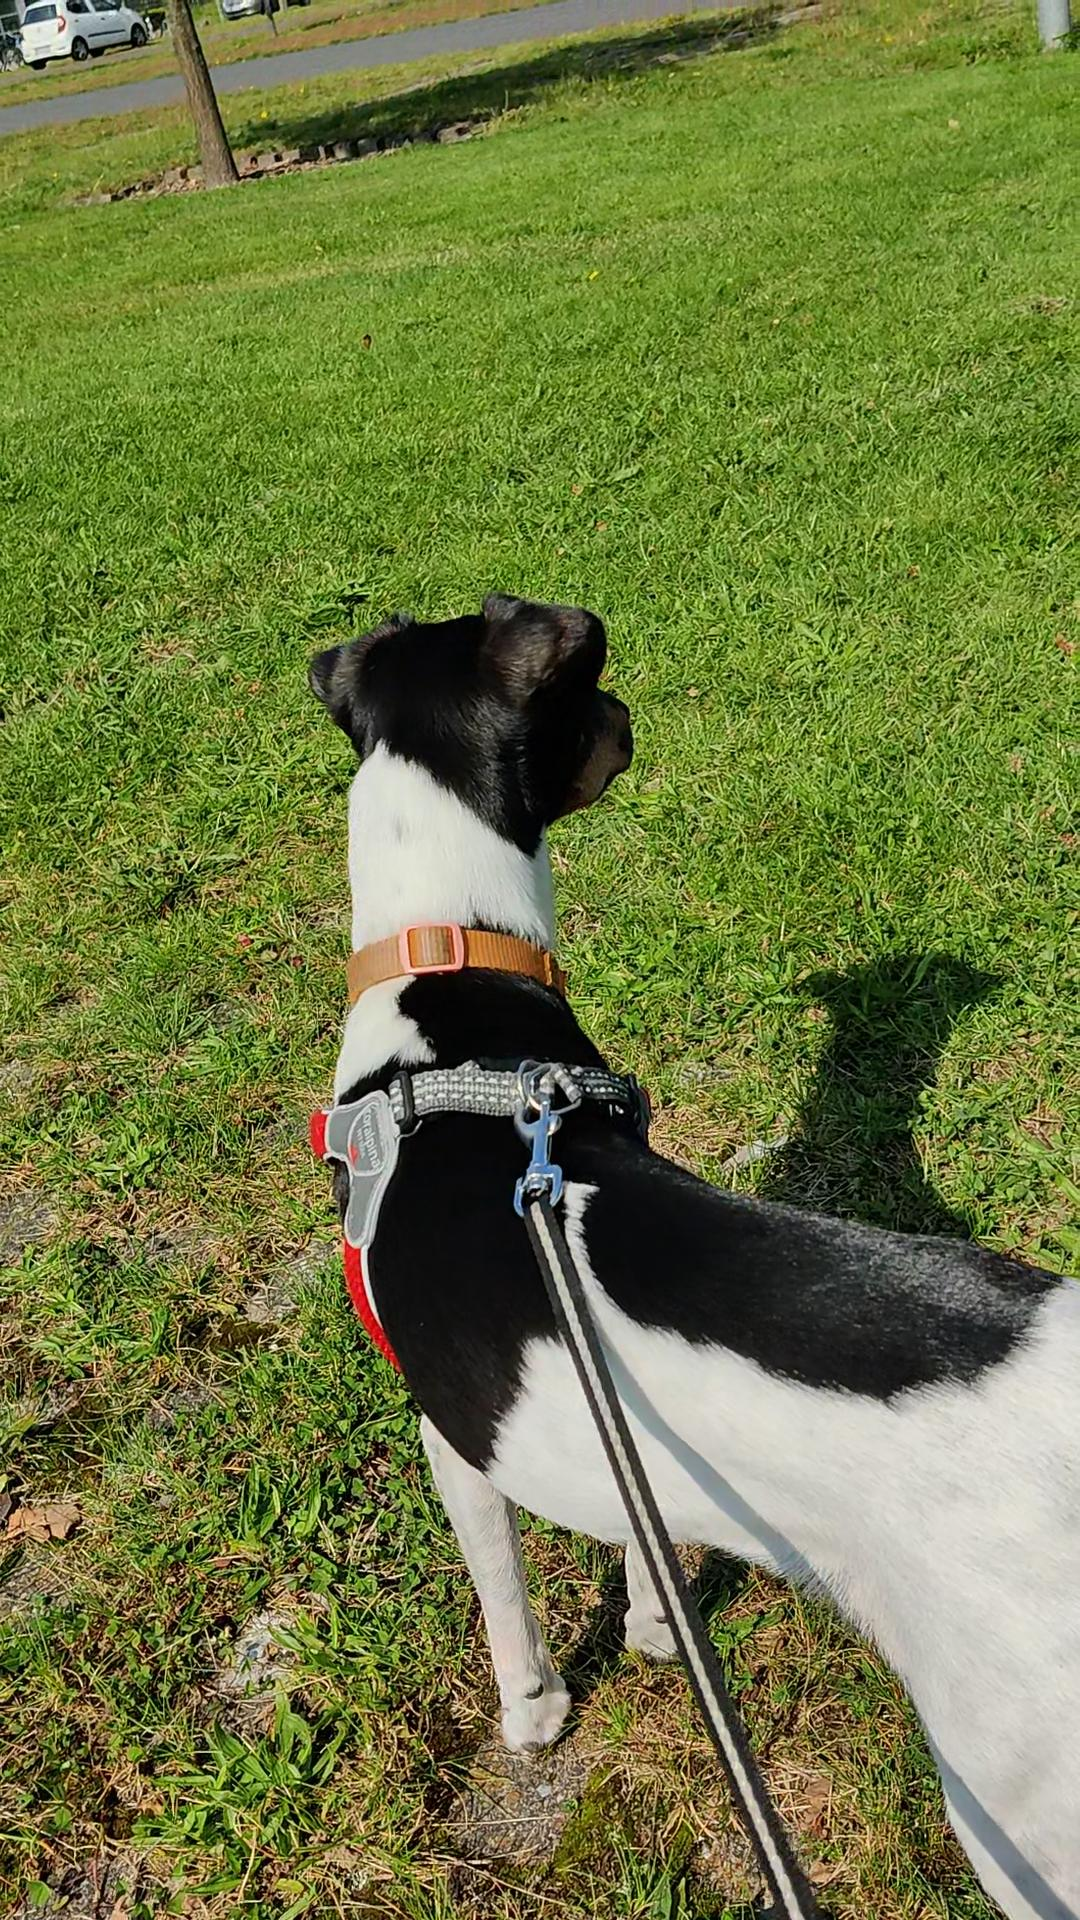Dog: (290, 580, 1079, 1919)
